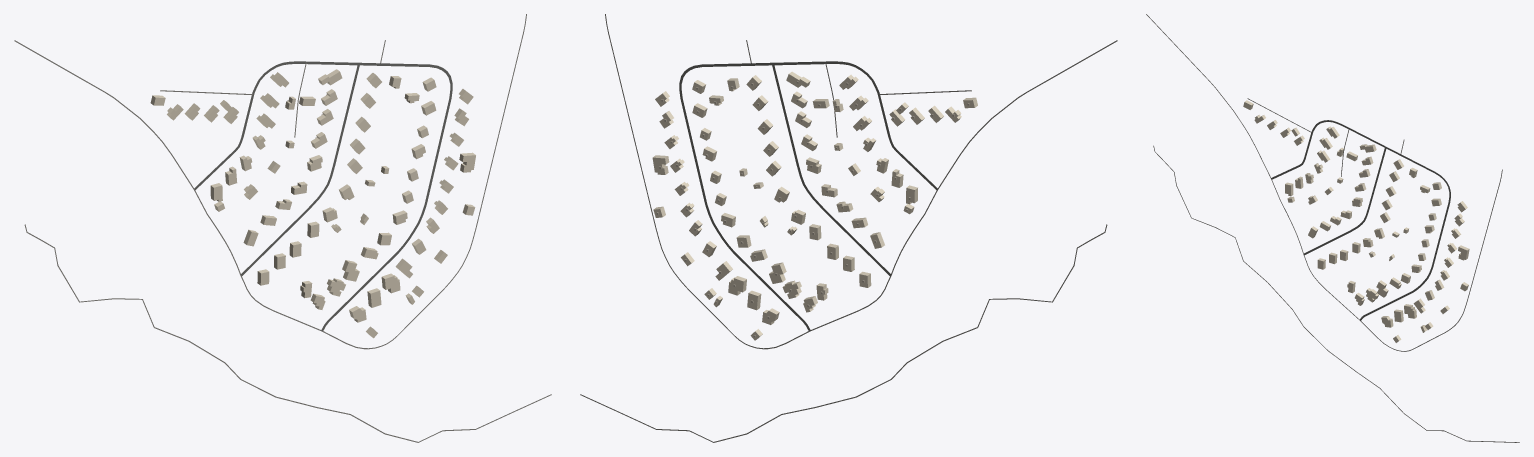
Rendered from historic-palestine-15_34_3569_3286.glb.
3 views of the same model, side by side, from view 1: azimuth 30°, elevation 25°; view 2: azimuth 150°, elevation 25°; view 3: azimuth 330°, elevation 25° (orthographic). The views are drawn at different scales.
Visible parts, largest first — view 1: Road .004, Road .005, Road .002, Road .003; view 2: Road .004, Road .005, Road .002, Road .003; view 3: Road .004, Road .005, Road .002, Road .003.
Boxes of the visible parts, <box> form: Road .004: <box>194,61,452,331</box>; Road .005: <box>14,14,526,349</box>; Road .002: <box>24,224,551,442</box>; Road .003: <box>240,64,359,275</box>; Road .004: <box>679,61,937,330</box>; Road .005: <box>605,14,1117,349</box>; Road .002: <box>580,224,1107,442</box>; Road .003: <box>772,64,891,276</box>; Road .004: <box>1271,120,1450,320</box>; Road .005: <box>1146,14,1502,351</box>; Road .002: <box>1153,145,1519,442</box>; Road .003: <box>1304,147,1386,255</box>.
Size of the model in its own units: 705 by 630 by 8.7.
